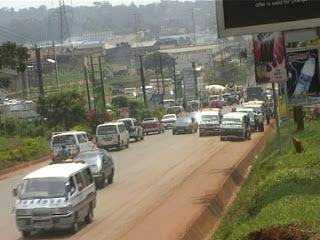Car: (70, 149, 117, 188), (115, 115, 146, 141), (169, 116, 200, 137), (140, 115, 165, 136), (157, 110, 179, 128)
Motorcycle: (56, 144, 70, 163)
